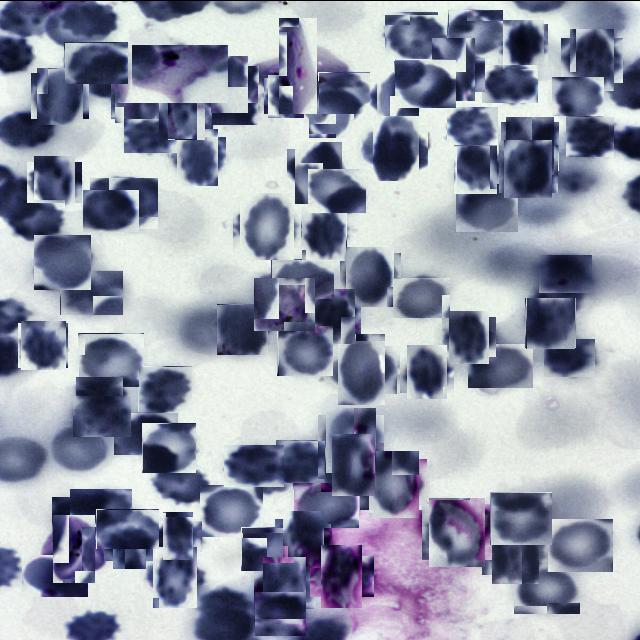red blood cell: (236, 194, 298, 256), (426, 500, 488, 562), (89, 176, 158, 228), (78, 332, 144, 386), (546, 518, 613, 571), (332, 339, 391, 399), (364, 454, 423, 513), (514, 562, 580, 613), (322, 410, 380, 468), (490, 491, 552, 544), (200, 484, 263, 536), (486, 522, 544, 578), (47, 422, 111, 472), (384, 10, 447, 60), (290, 144, 346, 200), (34, 234, 91, 289), (394, 58, 456, 108), (368, 120, 423, 176), (293, 481, 359, 527), (456, 183, 518, 231), (343, 249, 398, 303), (565, 32, 619, 86), (427, 42, 480, 96), (503, 119, 557, 172), (258, 560, 312, 613), (468, 343, 533, 387), (278, 324, 334, 375), (60, 269, 123, 314), (149, 550, 202, 603), (502, 142, 556, 194), (22, 554, 88, 596), (326, 438, 379, 490), (306, 82, 358, 134), (34, 69, 86, 121), (316, 550, 368, 602), (142, 422, 196, 472), (64, 41, 128, 83), (114, 412, 178, 454), (448, 9, 503, 57), (217, 303, 268, 354), (308, 168, 366, 212), (242, 526, 300, 570), (308, 290, 358, 341), (224, 444, 284, 486), (53, 496, 109, 541), (271, 258, 334, 298), (96, 508, 159, 548), (299, 208, 349, 258), (172, 132, 222, 182), (278, 514, 328, 564), (526, 298, 576, 348), (138, 365, 192, 411), (6, 199, 65, 241), (373, 74, 422, 123), (154, 463, 211, 505), (392, 276, 450, 317), (73, 395, 131, 436), (70, 488, 132, 526), (83, 189, 139, 231), (206, 59, 254, 108), (254, 590, 306, 635), (403, 348, 451, 396), (113, 72, 161, 120), (19, 321, 68, 368), (31, 157, 78, 205), (447, 106, 498, 150), (318, 71, 370, 113), (446, 313, 492, 360), (163, 89, 210, 135), (206, 84, 260, 124), (482, 64, 538, 102), (452, 146, 498, 192), (276, 439, 325, 482), (538, 253, 592, 292), (501, 20, 546, 66), (552, 76, 604, 115), (198, 587, 250, 626), (544, 338, 595, 376), (566, 116, 614, 156), (124, 118, 177, 152), (108, 522, 150, 564), (75, 375, 124, 408), (158, 516, 198, 556), (266, 75, 306, 115)
trophozoite: (132, 44, 228, 102), (264, 32, 332, 100), (256, 274, 314, 332), (46, 520, 102, 576)
